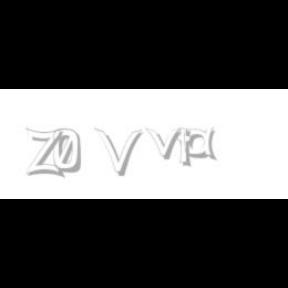0: (54, 128, 84, 174)
V: (95, 128, 143, 176)
Z: (26, 128, 62, 178)
a: (184, 128, 222, 160)
t: (176, 128, 198, 168)
v: (145, 128, 185, 160)
